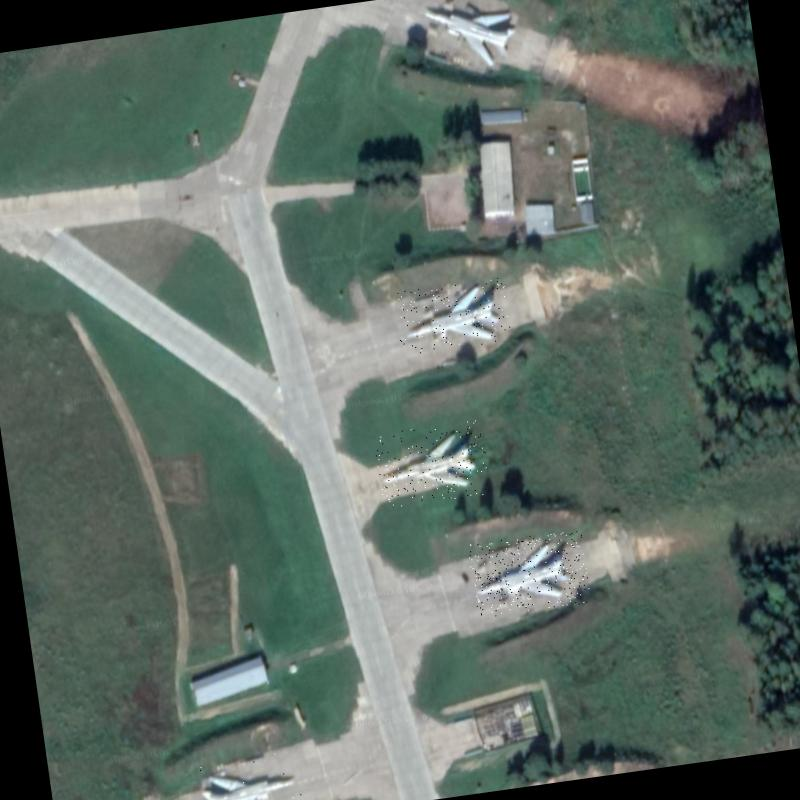A12: (467, 528, 591, 618), (372, 419, 491, 509), (393, 276, 513, 356), (412, 0, 529, 75), (190, 750, 306, 800)
